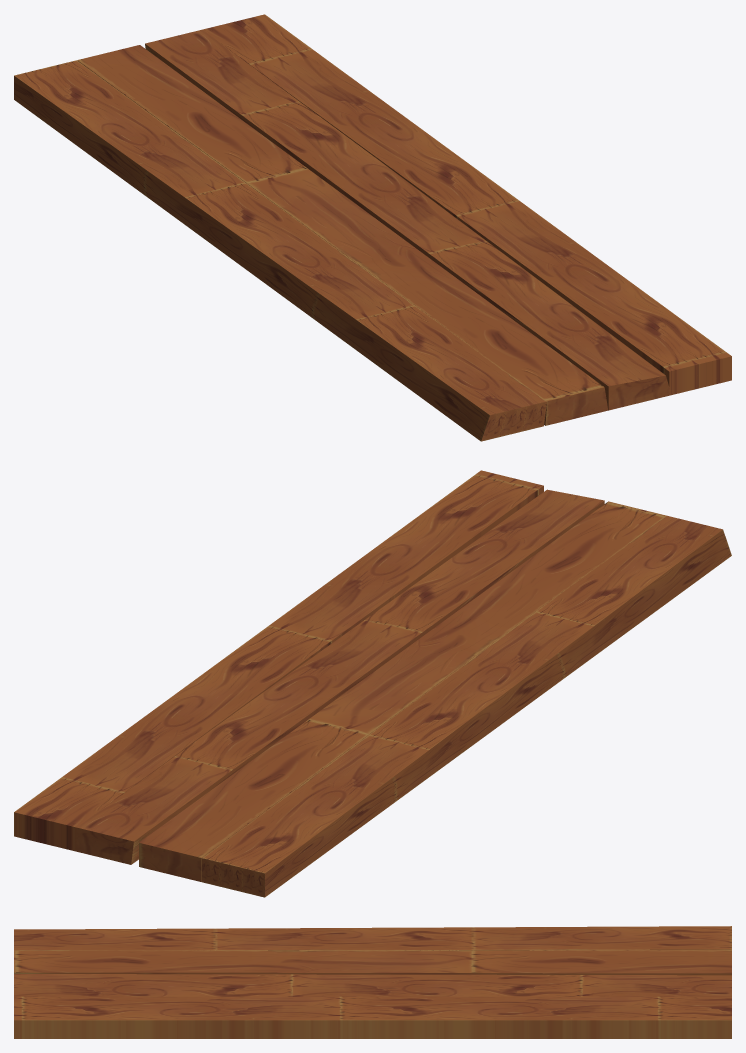
File: BarcoNivel1.fbx
3 views of the same model, one above another, from view 1: azimuth 30°, elevation 25°; view 2: azimuth 150°, elevation 25°; view 3: azimuth 270°, elevation 25° (orthographic). The views are drawn at different scales.
Visible parts, largest first — view 1: Cube003, Cube, Cube001, Cube002; view 2: Cube003, Cube, Cube001, Cube002; view 3: Cube, Cube002, Cube003, Cube001.
Part boxes in pixels (x1=…): Cube003: x1=14, y1=60, x2=546, y2=441; Cube: x1=202, y1=14, x2=731, y2=395; Cube001: x1=145, y1=29, x2=671, y2=410; Cube002: x1=77, y1=45, x2=608, y2=425; Cube003: x1=202, y1=515, x2=731, y2=897; Cube: x1=14, y1=470, x2=543, y2=851; Cube001: x1=75, y1=489, x2=604, y2=864; Cube002: x1=139, y1=501, x2=665, y2=881; Cube: x1=14, y1=996, x2=731, y2=1038; Cube002: x1=14, y1=950, x2=731, y2=975; Cube003: x1=14, y1=926, x2=731, y2=950; Cube001: x1=14, y1=974, x2=731, y2=996.
Bounding box in the file's own units: 3.78 × 0.348 × 12.18.
Materials: 1 (1 with a texture image).
